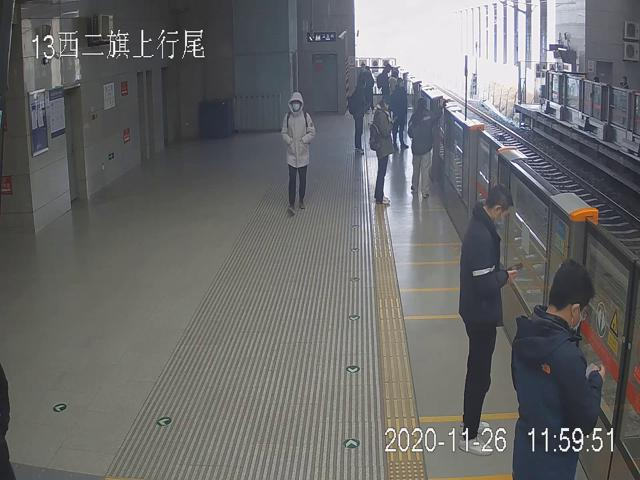person: (457, 181, 514, 455), (281, 91, 316, 215), (406, 97, 441, 197), (370, 95, 396, 205), (347, 75, 370, 155)
